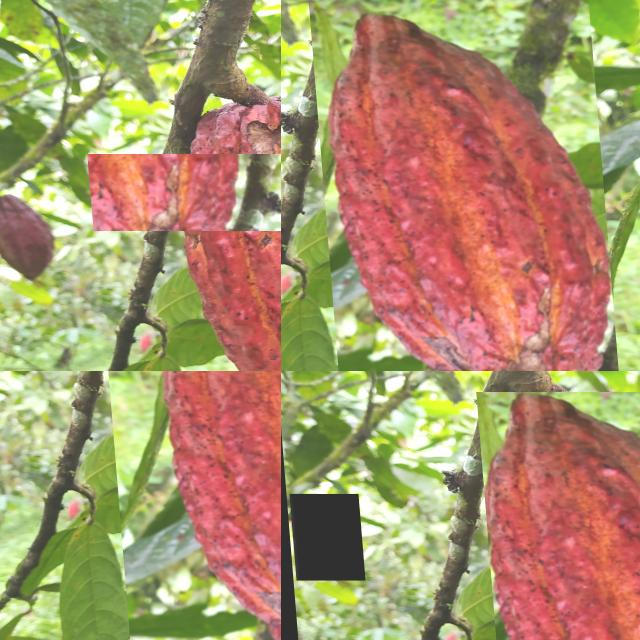Monilia: (84, 154, 281, 231)
Sana: (306, 0, 616, 371), (94, 371, 281, 640), (474, 392, 640, 640), (286, 494, 360, 580)
